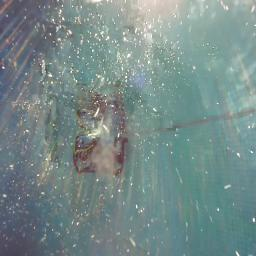back: (74, 134, 128, 176)
front: (72, 136, 130, 172)
